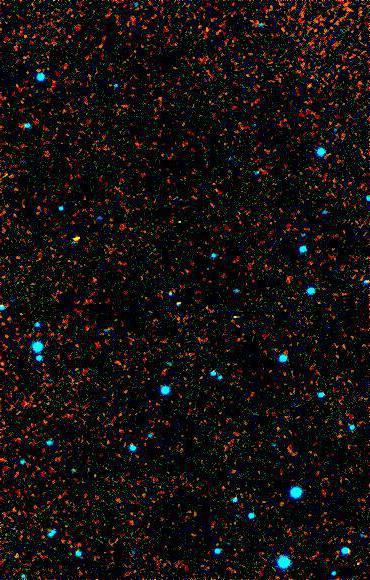star: (61, 225, 91, 255)
